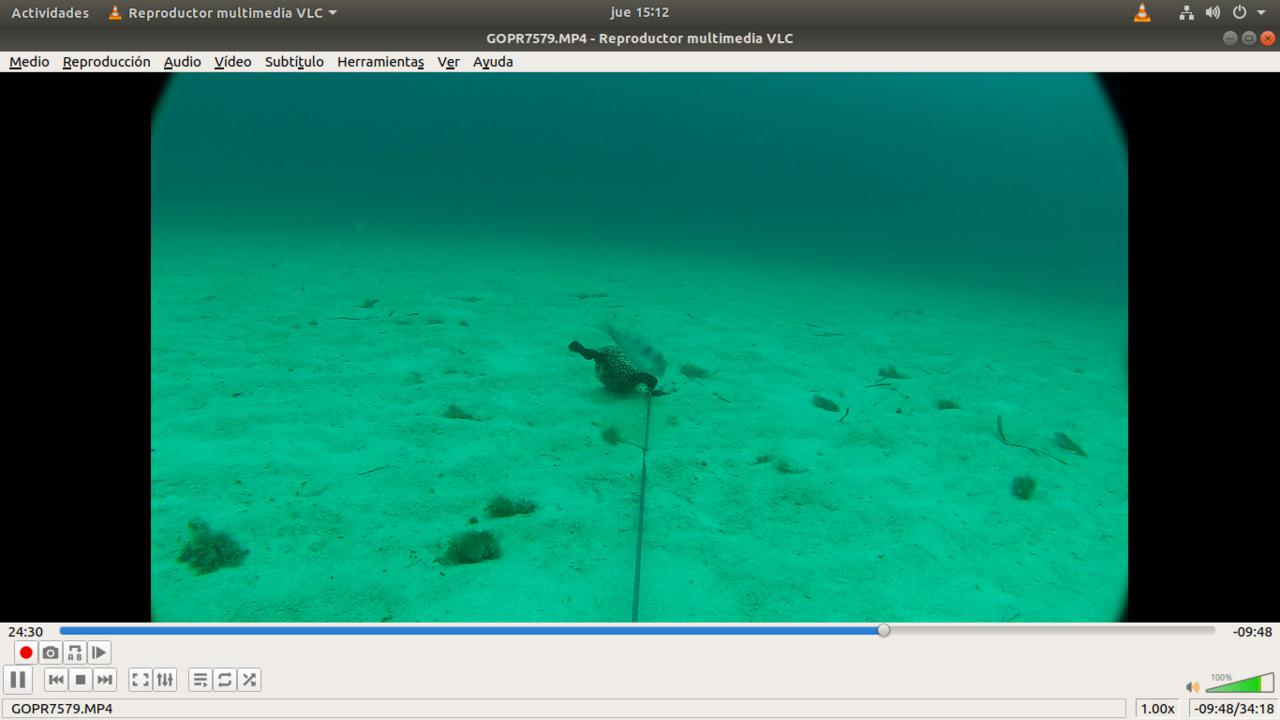raor: (598, 317, 676, 376)
